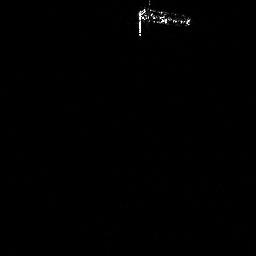ship: (135, 3, 193, 39)
